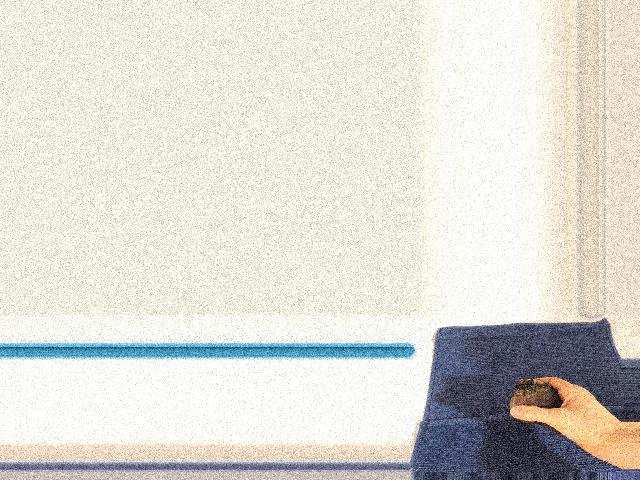beet: (509, 378, 560, 440)
